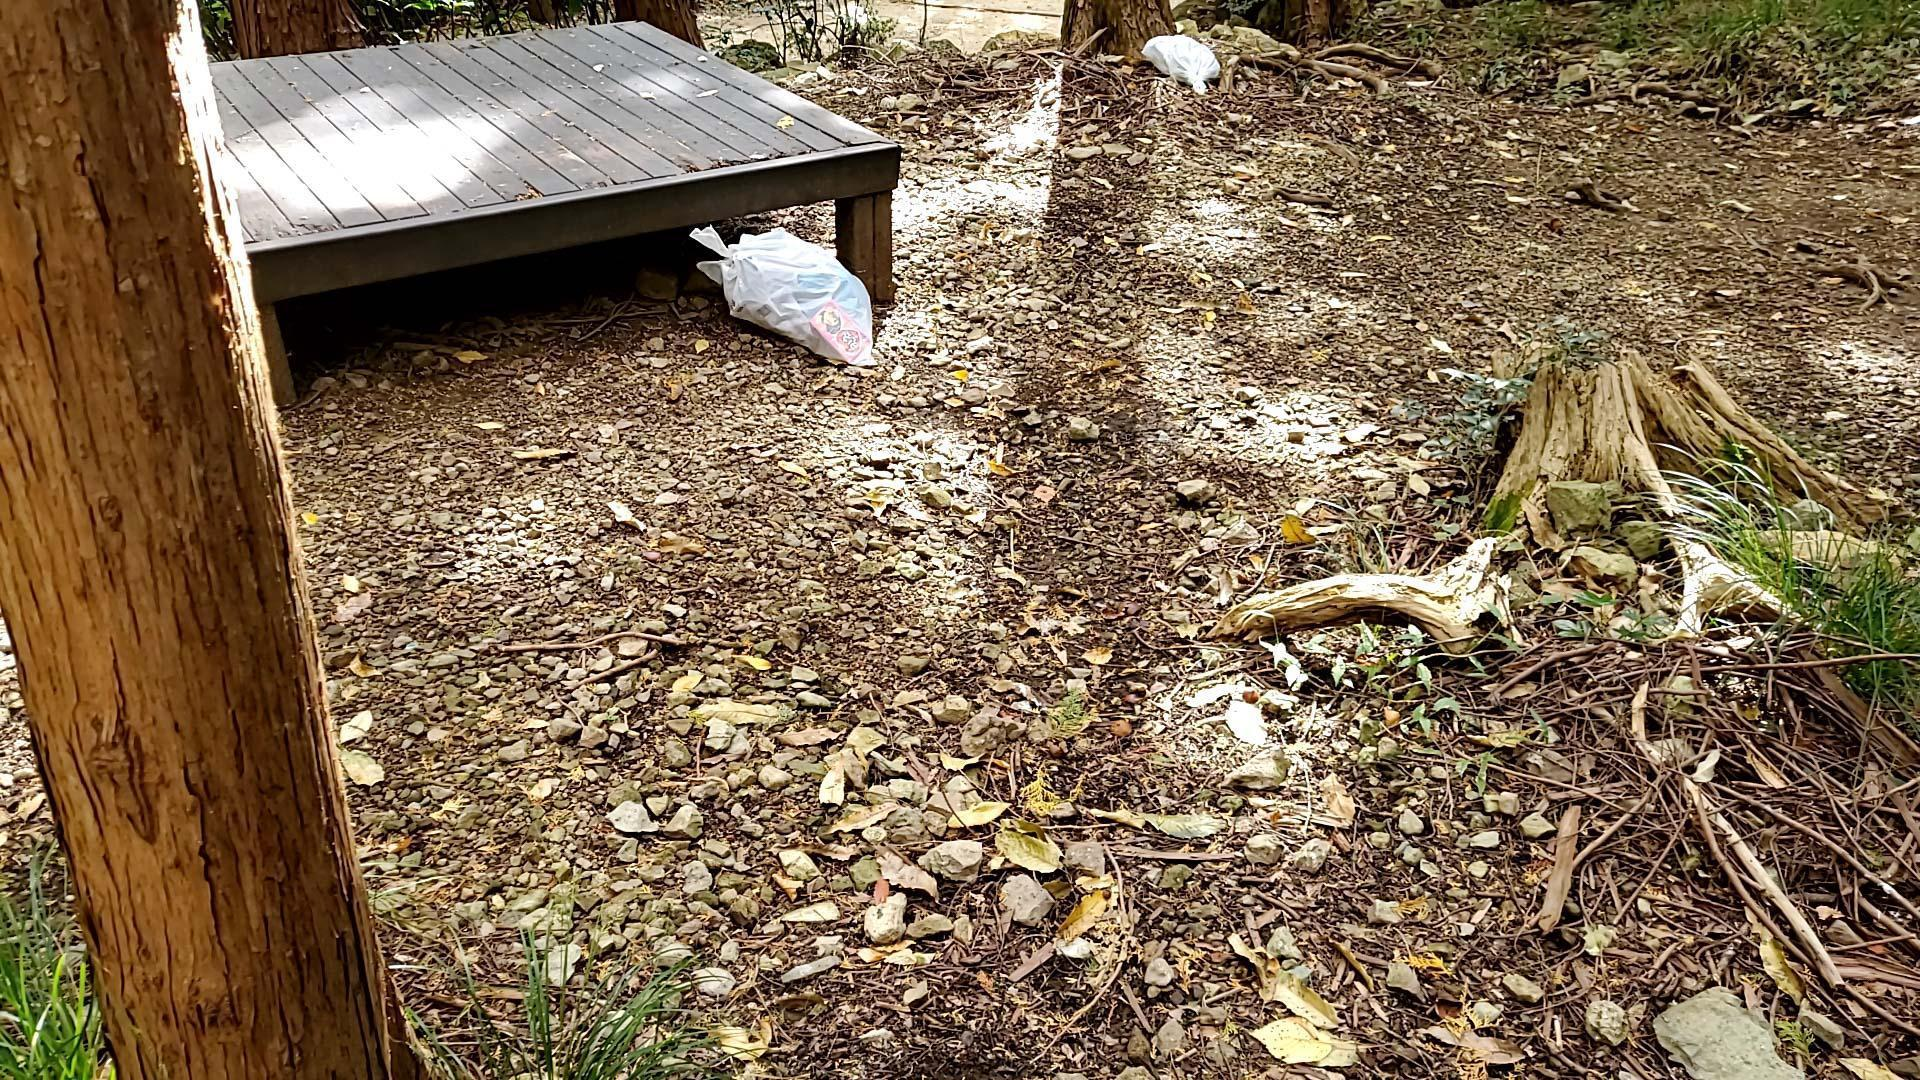white_bag: (675, 214, 895, 385)
